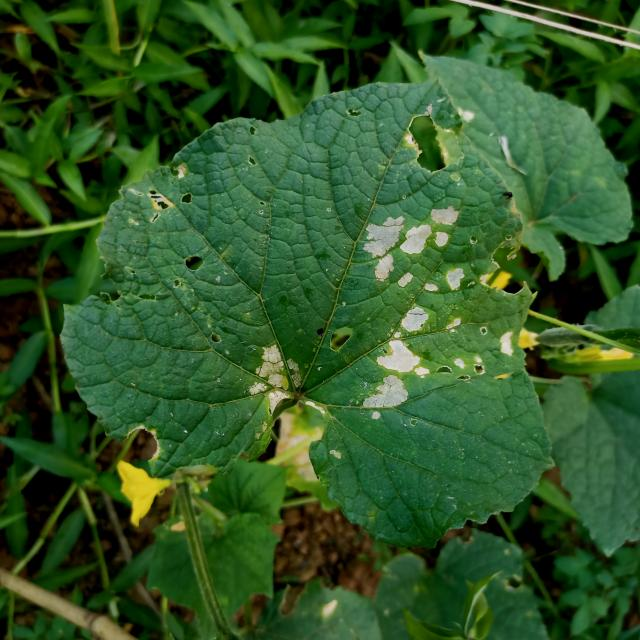disease_cucumber: (354, 296, 518, 426), (354, 189, 481, 295), (238, 331, 314, 418)
